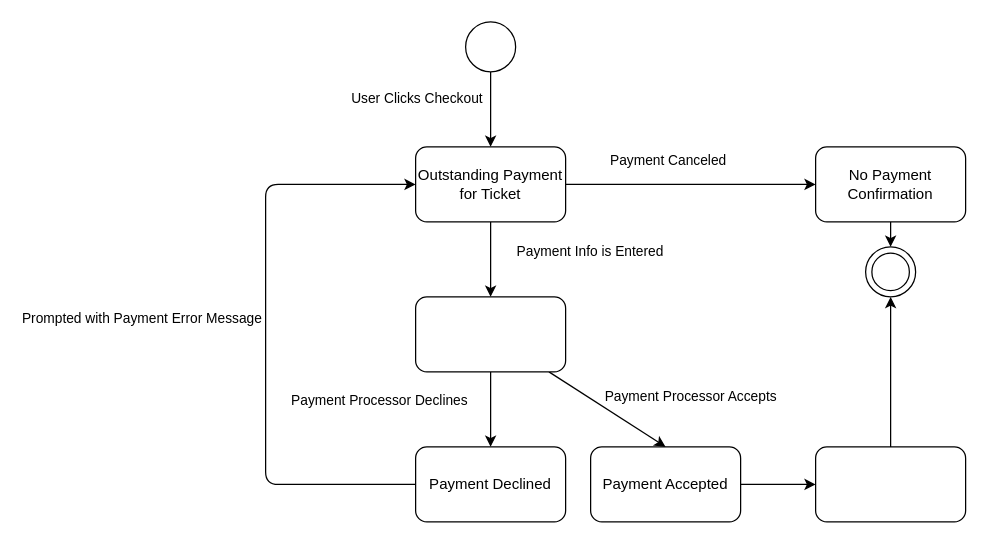
This 988x544 diagram has some shape labels left out. The centre of each missing label's shape, as x and y in pixels:
"Payment Confirmed" belongs at point 890,484.
"Verification with Payment Processor" belongs at point 490,334.
